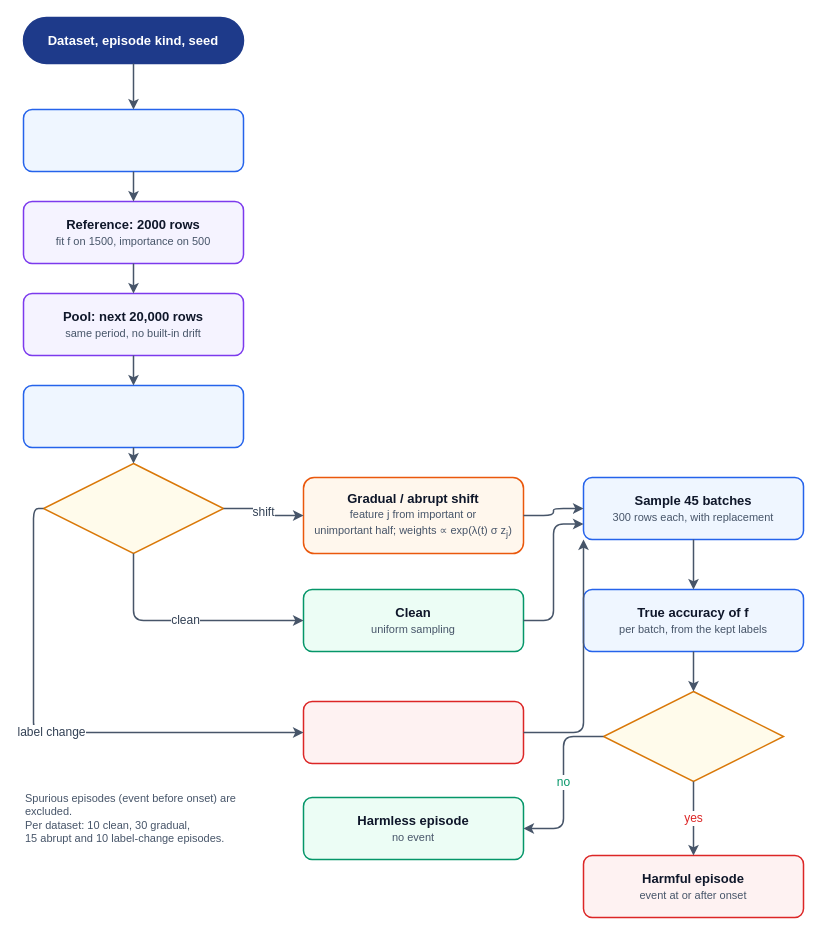
The diagram is 821 pixels wide and 936 high, and some of its shapes have lost their labels. Each missing label, with the centre of its shape:
"Draw contiguous block both classes ≥ 5% of rows" goes at (x=133, y=140).
"Draw onset s in [10, 16]" goes at (x=133, y=416).
"Episode kind?" goes at (x=133, y=508).
"Event after onset?" goes at (x=693, y=736).
"Label change flip labels, p → 0.3, if z k > 0" goes at (x=413, y=732).
